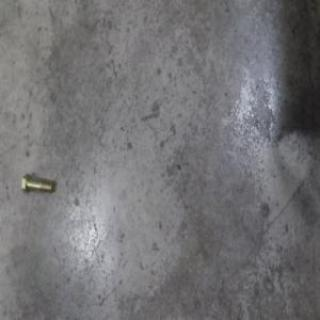Bolttrack_idkeyframe: (22, 181, 54, 206)
